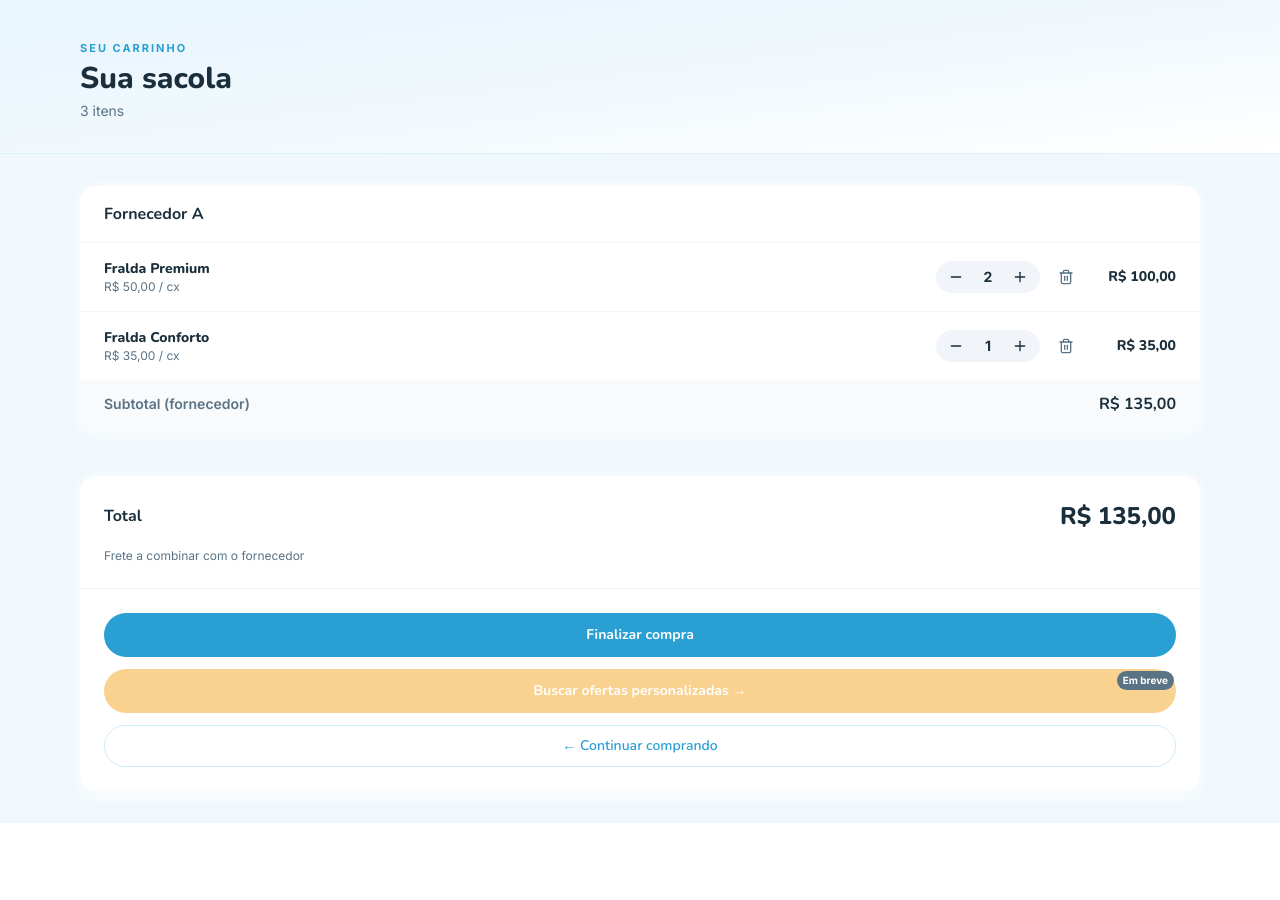
Test: SacolaPage › Cart with items › should remove item when clicking remove button
The width and height of the screenshot is (1280, 900).
Check: the text "Fralda Premium" is shown, box [104,258,210,278]
Check: the text "Fralda Conforto" is shown, box [104,328,209,346]
Click remove button for first item
What coordinates should you click on to do the following:
click the button named "Remover"
I would click on:
 (1066, 276)
Its box is [1052,262,1080,290].
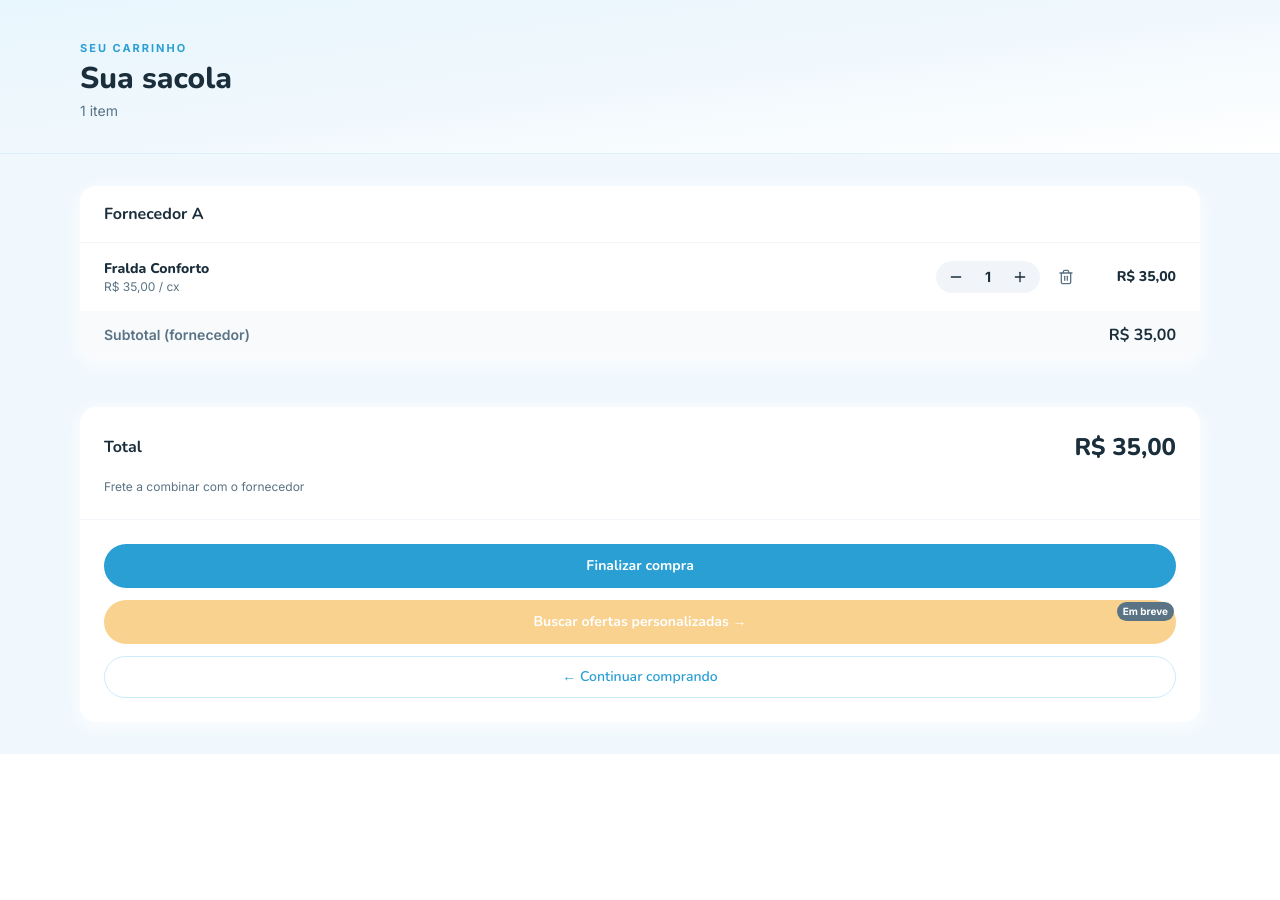
Check: the text "Fralda Conforto" is shown, box [104,258,209,278]
Check: the text "Fralda Premium" is gone
